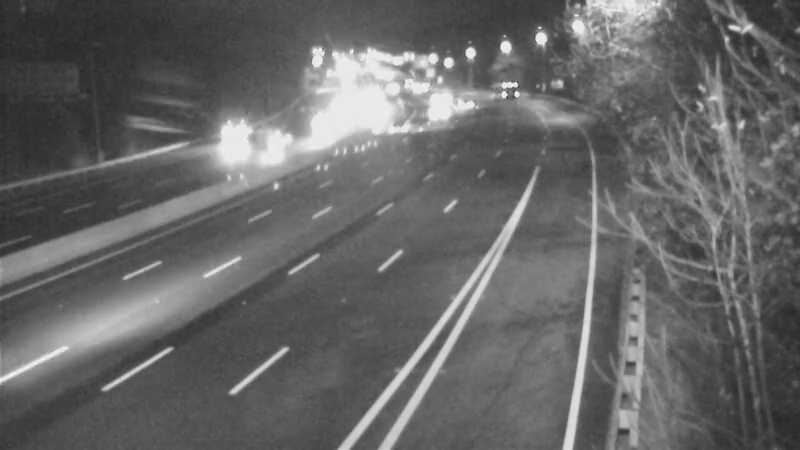vehicle: (480, 64, 530, 114), (409, 72, 459, 122), (433, 75, 483, 125), (411, 89, 461, 139), (373, 101, 423, 151), (202, 116, 252, 166), (255, 115, 305, 165), (300, 101, 350, 151)
